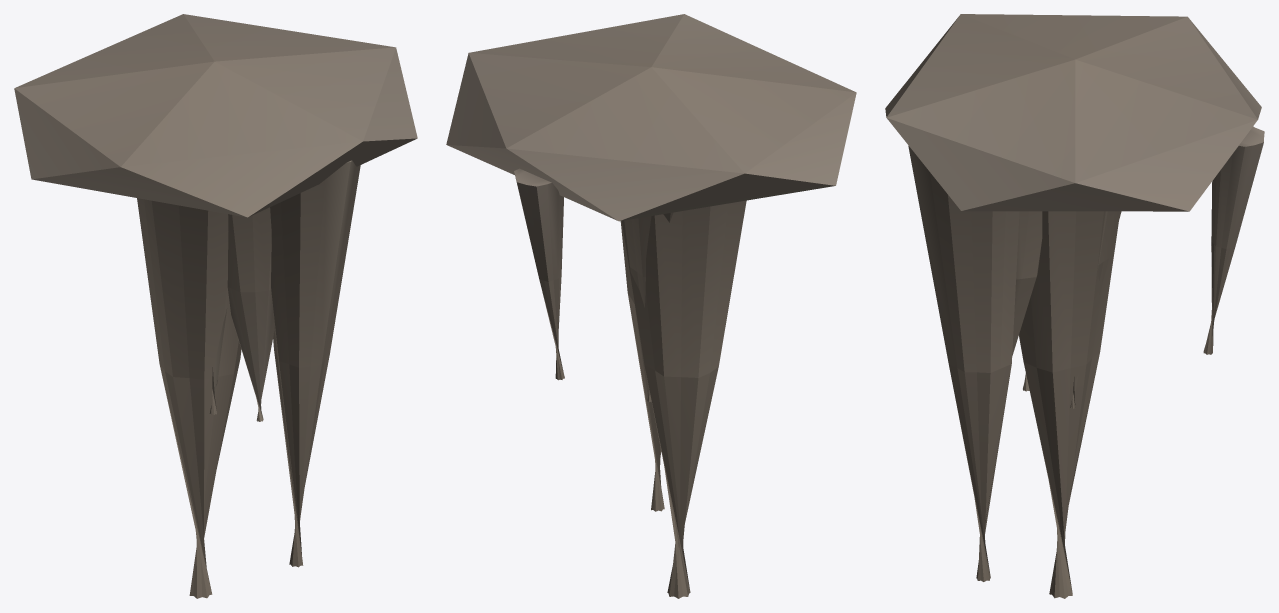
File: stalactite_cluster_a.49c757a3.glb
3 renders of one model, left to right at view 1: azimuth 30°, elevation 25°; view 2: azimuth 150°, elevation 25°; view 3: azimuth 270°, elevation 25°, orthographic. The views are drawn at different scales.
Parts seen in each view (by area): view 1: stalactite_cluster_a; view 2: stalactite_cluster_a; view 3: stalactite_cluster_a.
Boxes of the visible parts, x1,y1,x2,y2 form: stalactite_cluster_a: (14, 14, 417, 598); stalactite_cluster_a: (446, 14, 856, 598); stalactite_cluster_a: (885, 14, 1264, 598).
Size of the model in its own units: 1.06 by 1.45 by 0.9122.
